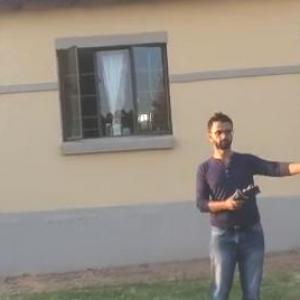follow: (187, 107, 299, 299)
